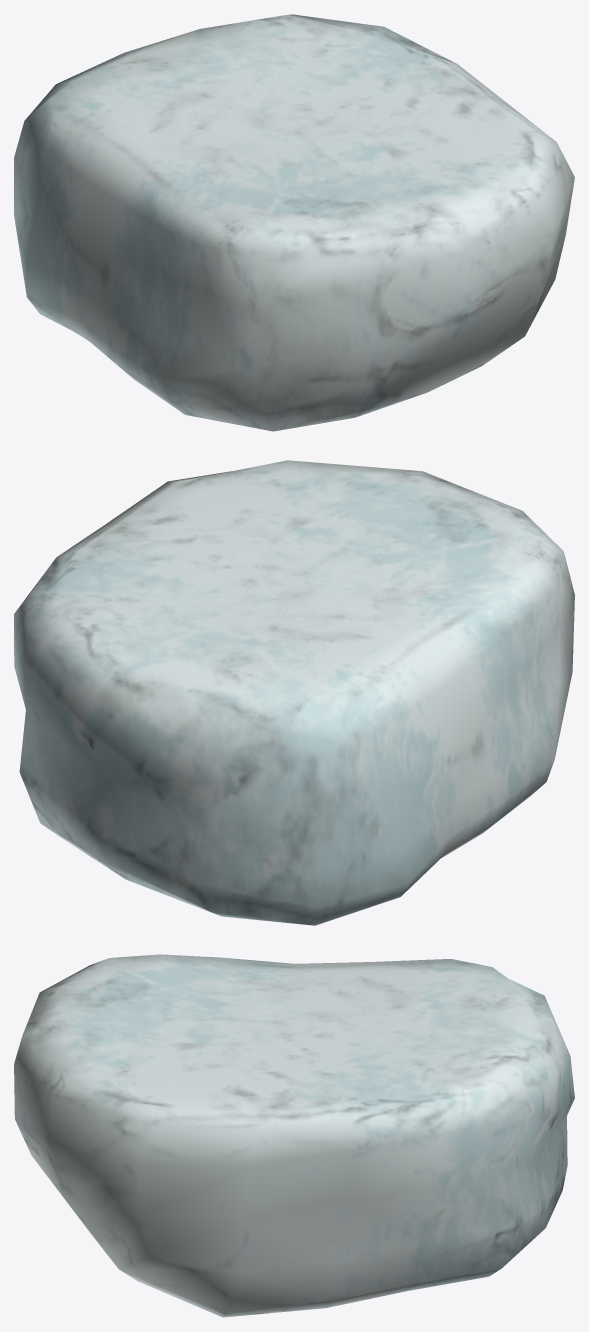
The model's file is IceBrock003.fbx.
3 renders of one model, top to bottom at view 1: azimuth 30°, elevation 25°; view 2: azimuth 150°, elevation 25°; view 3: azimuth 270°, elevation 25°, orthographic. The views are drawn at different scales.
Parts seen in each view (by area): view 1: ice_brock2_low1; view 2: ice_brock2_low1; view 3: ice_brock2_low1.
Boxes of the visible parts, <box> form: ice_brock2_low1: <box>14,14,574,431</box>; ice_brock2_low1: <box>14,460,574,925</box>; ice_brock2_low1: <box>14,954,574,1317</box>.
Bounding box in the file's own units: 0.0755 × 0.0423 × 0.0946.
Materials: 1 (1 with a texture image).
